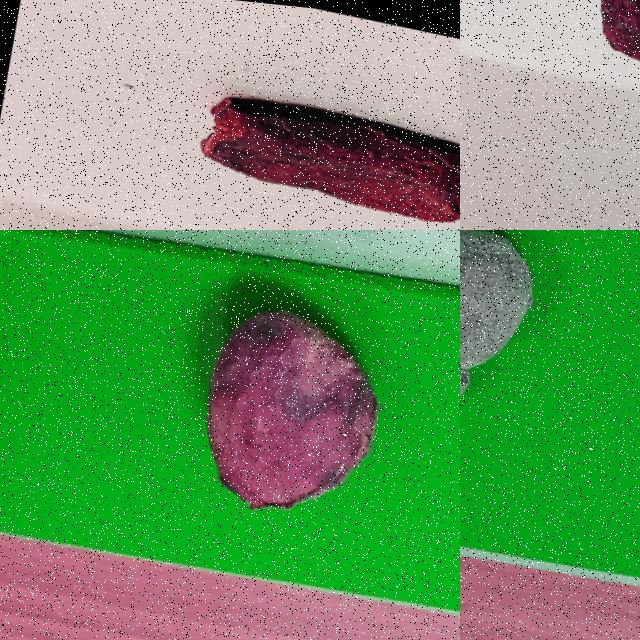Agglomerated_cocoabeans: (460, 230, 639, 461)
Fine_cocoabeans: (62, 230, 459, 577), (550, 0, 639, 143)
Flat_cocoabeans: (153, 40, 459, 229)
